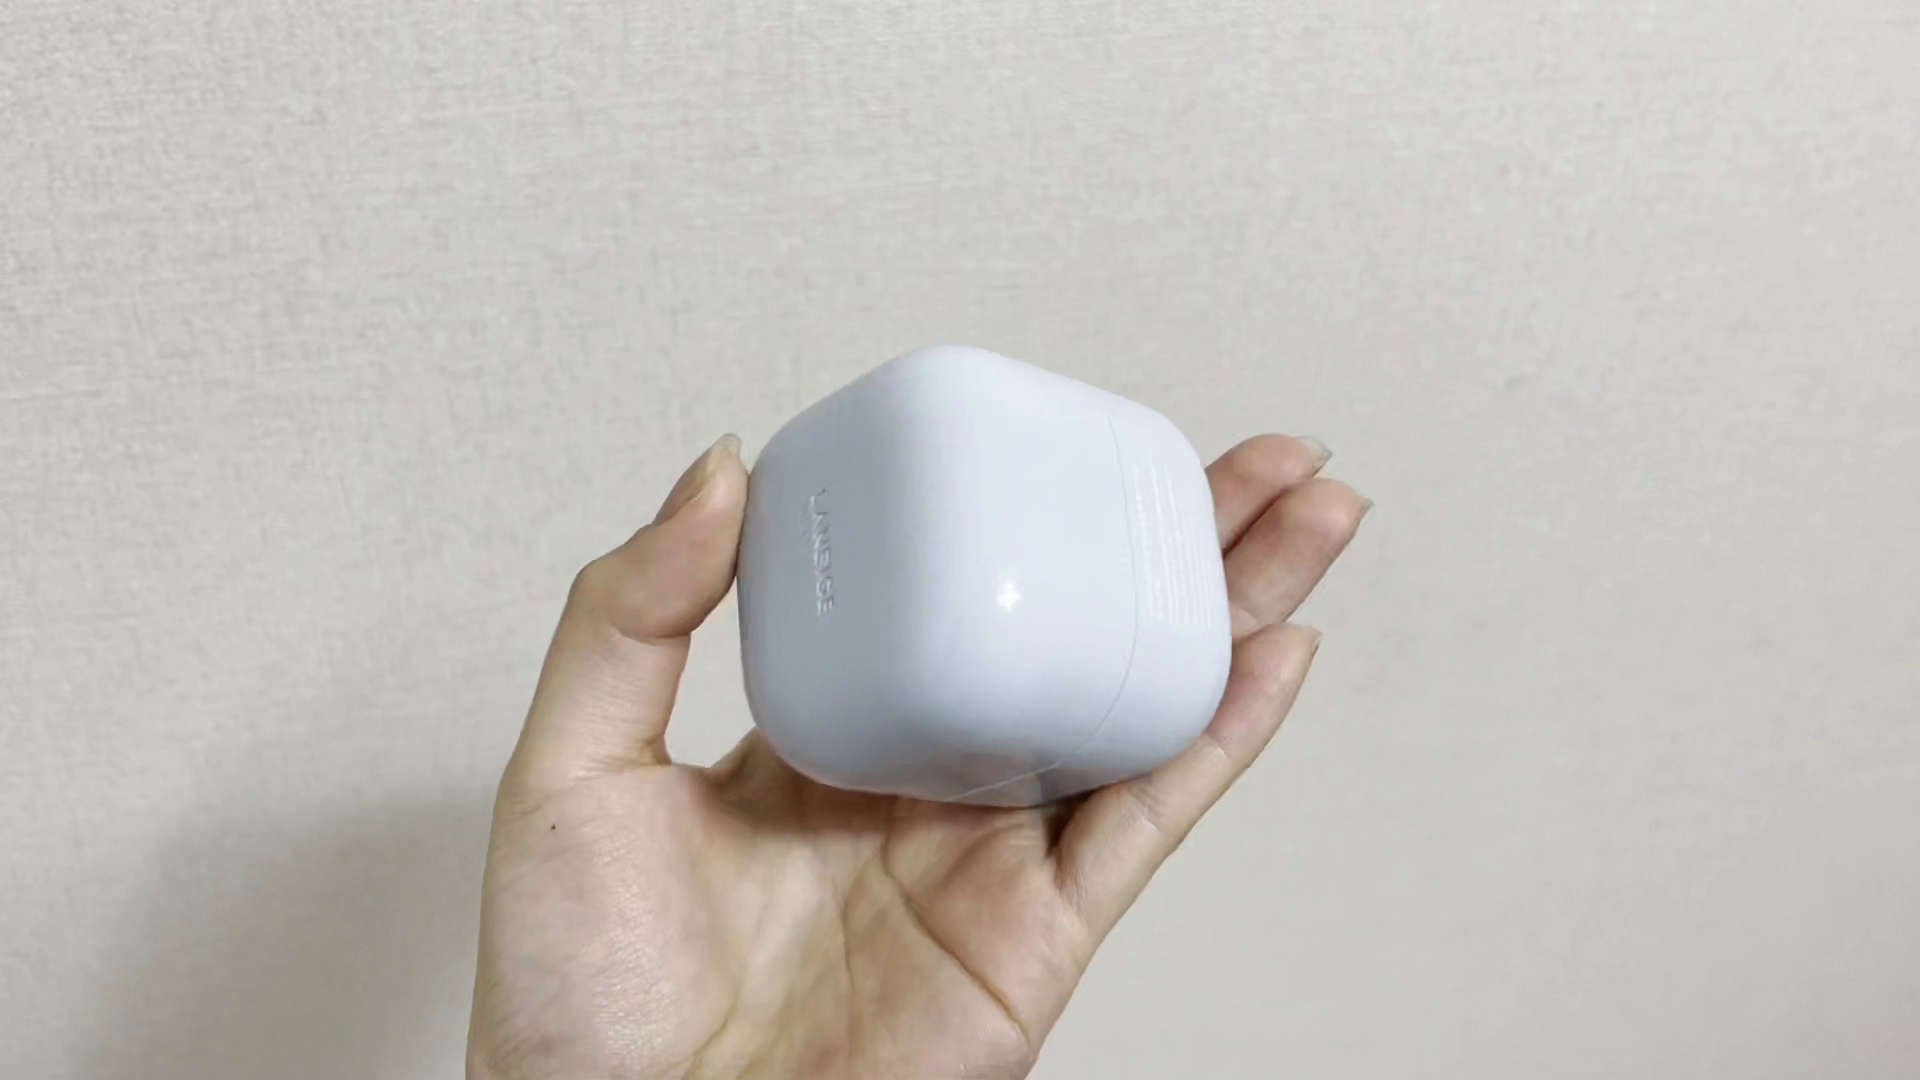cream: (736, 348, 1228, 810)
